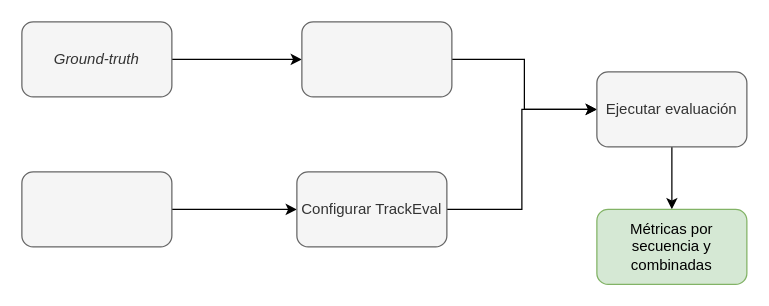
This 769x306 diagram has some shape labels left out. Each missing label, with the centre of its shape:
Generar seqmap del split: pixel 376 59
Resultados tracking: pixel 96 209
